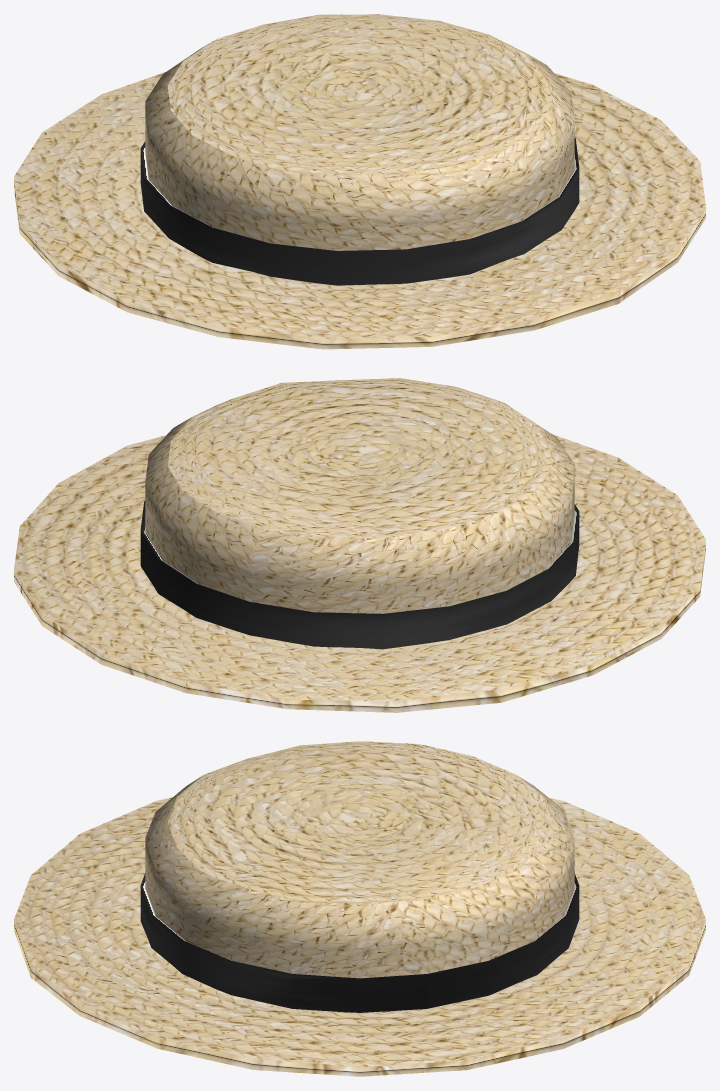
The model's file is hat.fbx.
3 views of the same model, one above another, from view 1: azimuth 30°, elevation 25°; view 2: azimuth 150°, elevation 25°; view 3: azimuth 270°, elevation 25° (orthographic).
Visible parts, largest first — view 1: Object_3, Object_2; view 2: Object_3, Object_2; view 3: Object_3, Object_2.
Boxes of the visible parts, bbox=[...] form: Object_3: bbox=[14, 14, 705, 349]; Object_2: bbox=[140, 138, 579, 285]; Object_3: bbox=[14, 378, 705, 712]; Object_2: bbox=[140, 501, 579, 649]; Object_3: bbox=[14, 741, 705, 1076]; Object_2: bbox=[140, 873, 579, 1012].
Size of the model in its own units: 5800 by 1108 by 5800.
